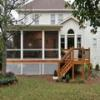stairs: (57, 58, 88, 82)
